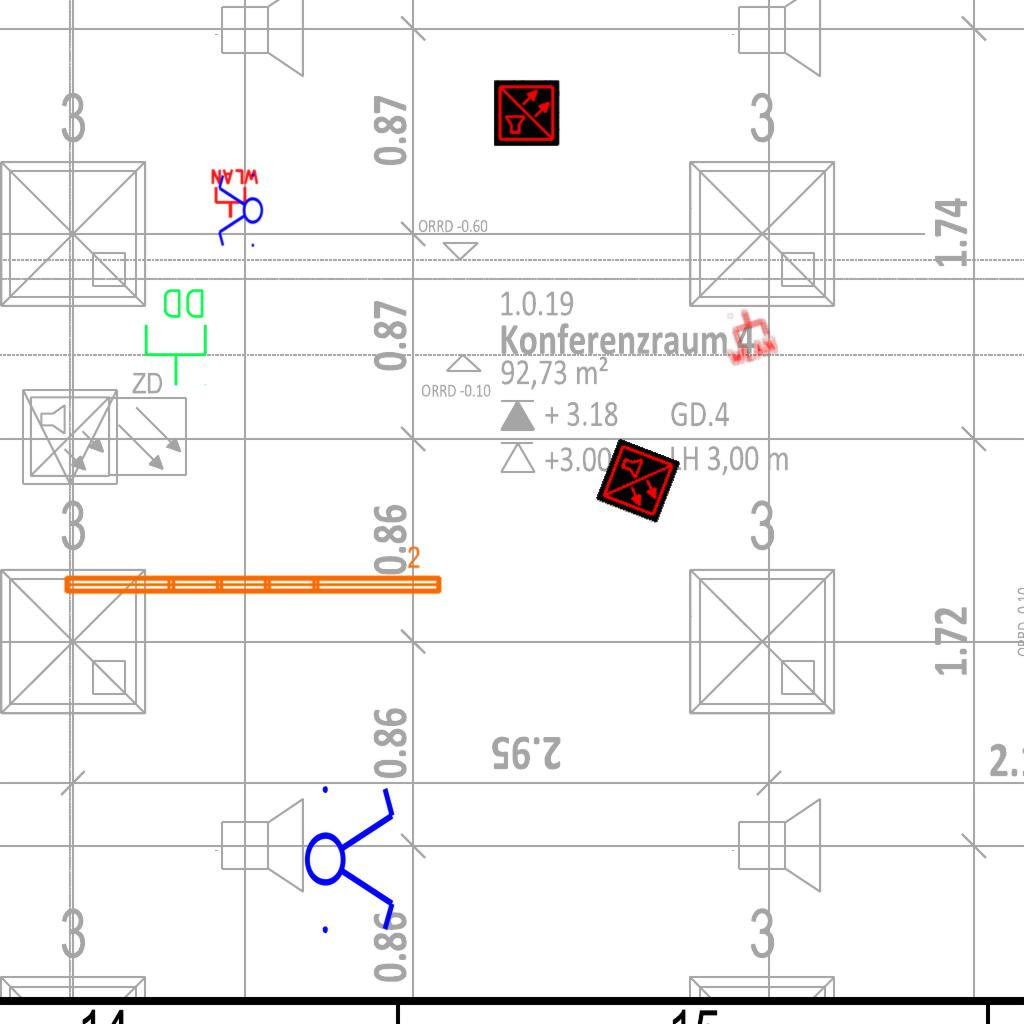Ambulanz_Pendelleuchte_LED: (59, 544, 446, 600)
Datenanschluss_zweifach: (142, 285, 211, 388)
OKW_Multisensormelder_(Kombination_optischer_Rauch-Kahlenmonoxid_Waerme-Melder): (595, 438, 681, 524), (494, 80, 560, 146)
Serienschalter: (303, 774, 399, 942), (216, 169, 264, 253)
WLAN: (714, 302, 780, 368), (209, 168, 261, 220)
